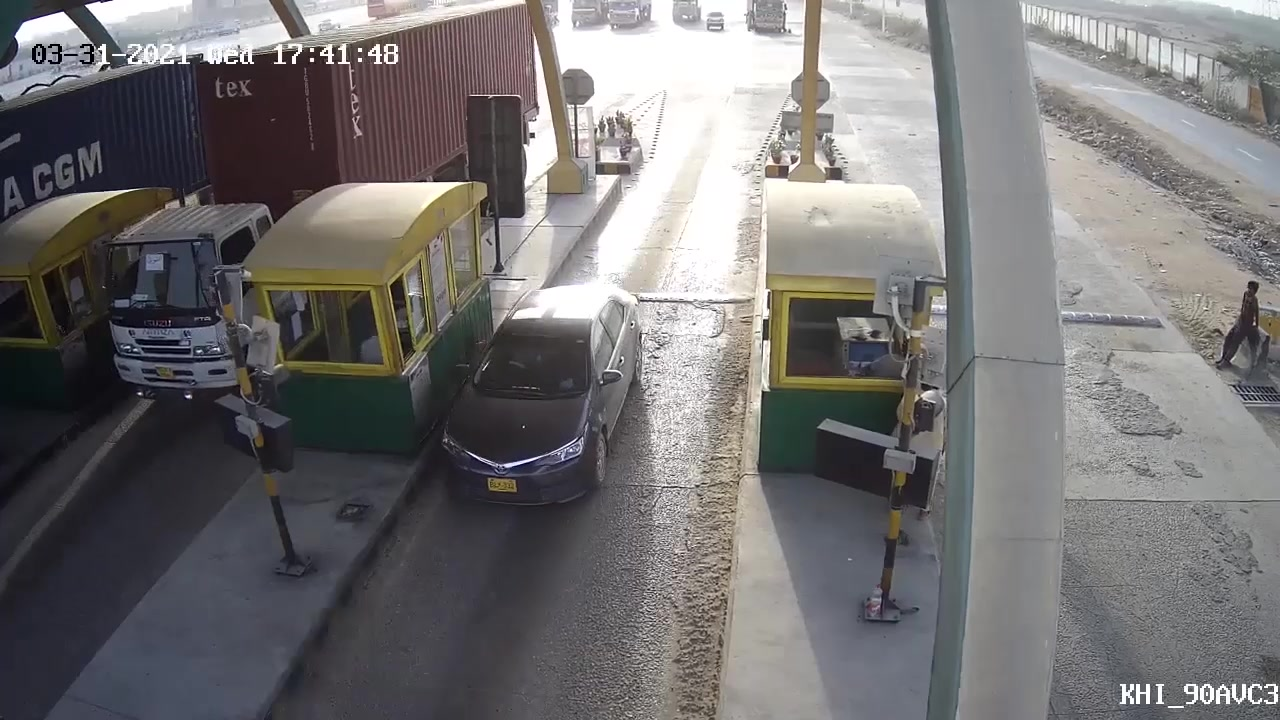F1: (423, 279, 654, 527)
